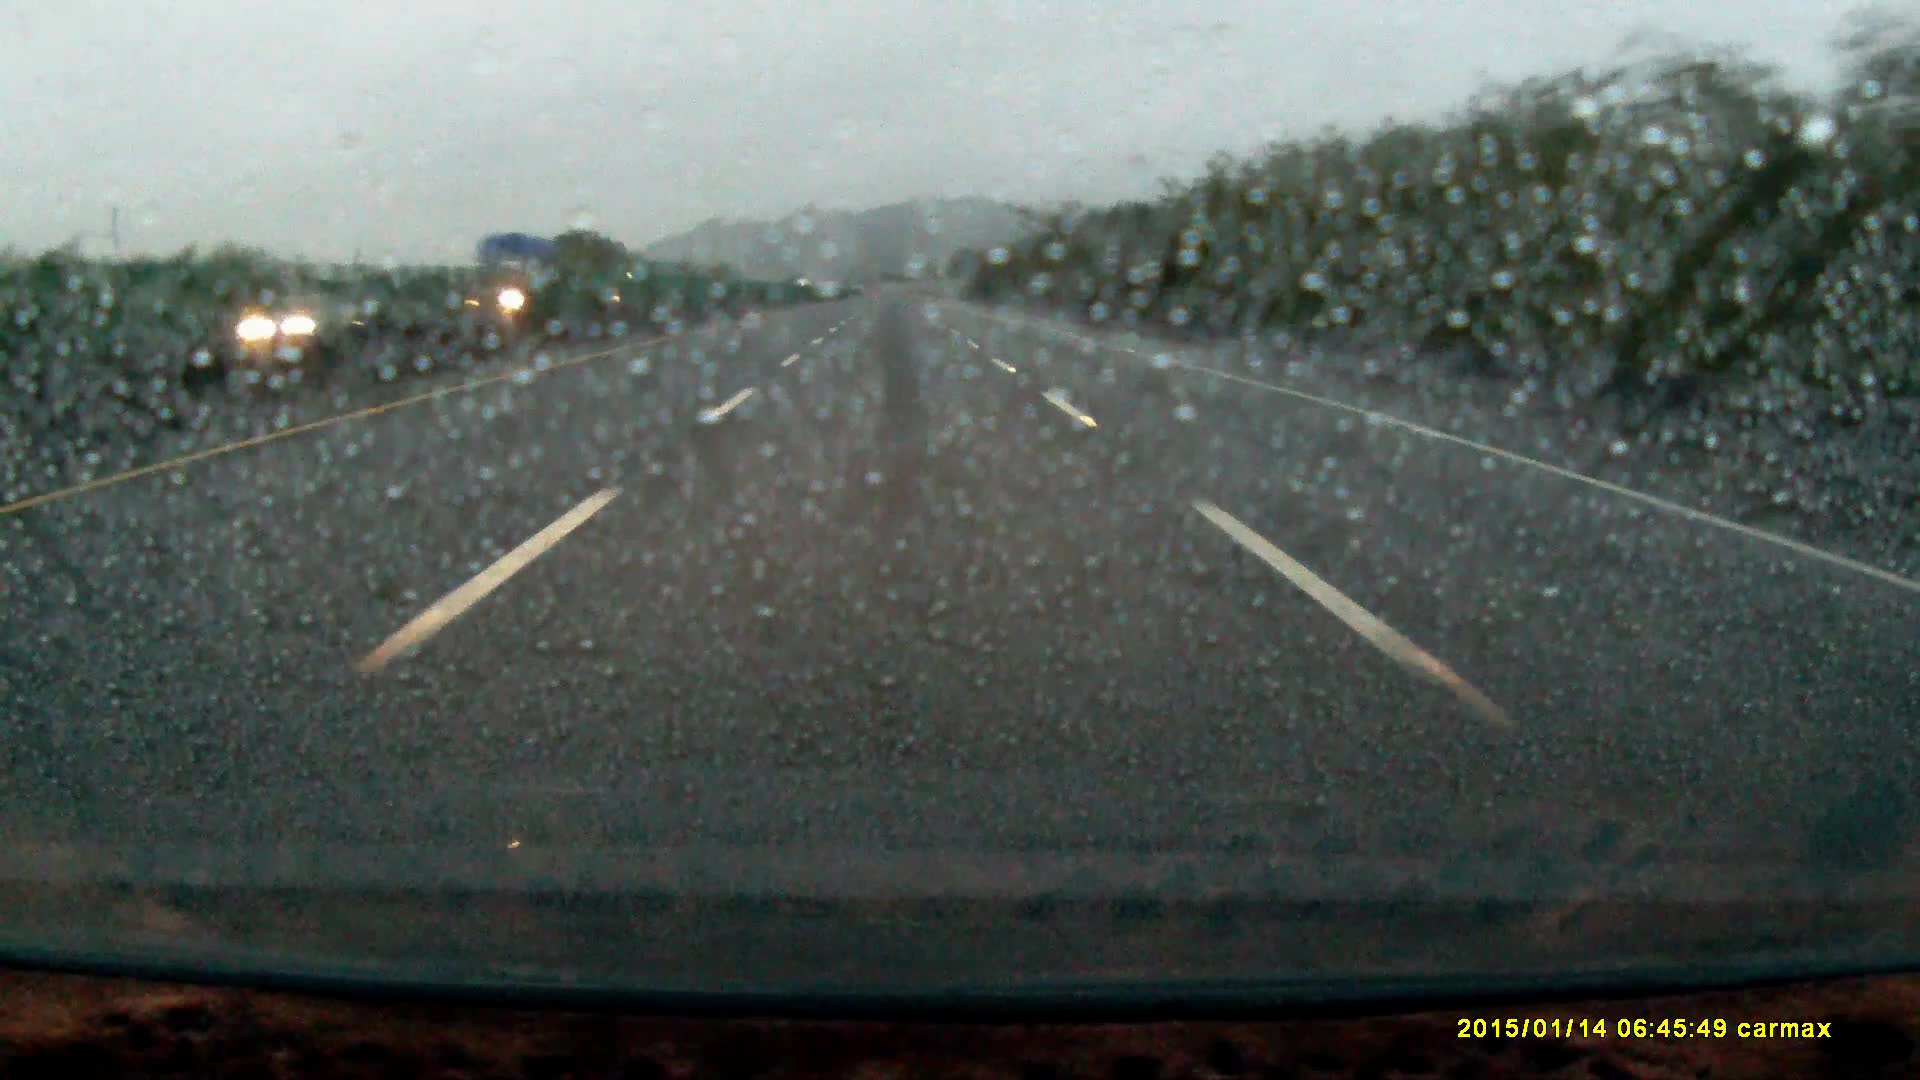vehicle: (468, 241, 583, 335), (244, 302, 363, 344)
